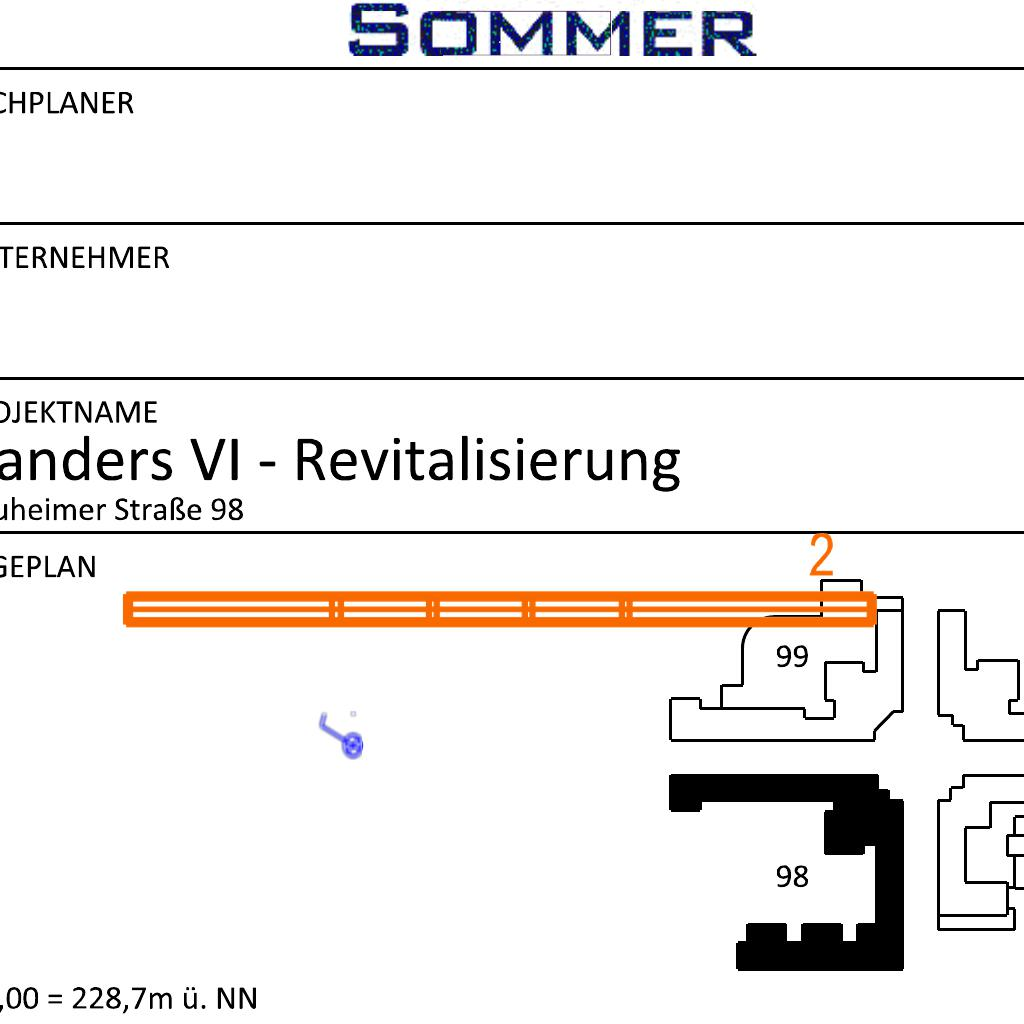Ambulanz_Pendelleuchte_LED: (112, 528, 886, 640)
Ausschalter_beleuchtet: (316, 709, 364, 765)
